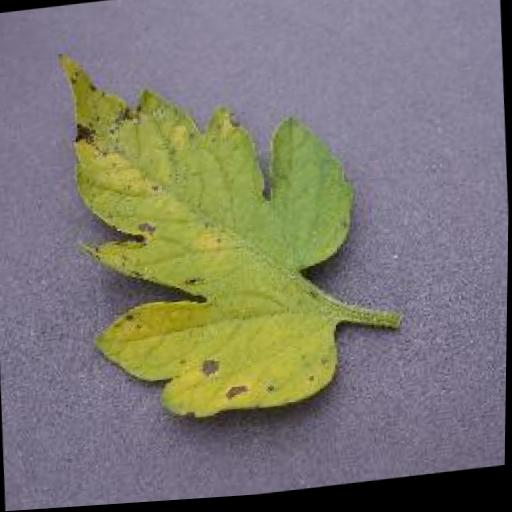Septoria: (50, 14, 365, 438)
